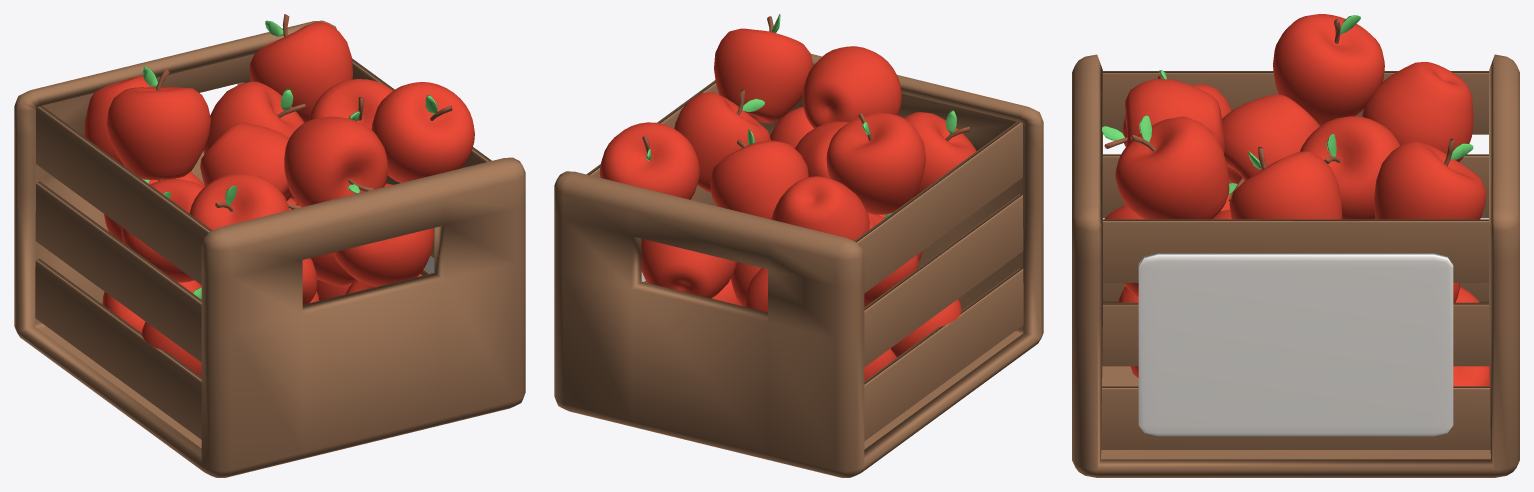
The model's file is CajaDeManzana.fbx.
The picture shows the model from 3 angles, left to right: view 1: azimuth 30°, elevation 25°; view 2: azimuth 150°, elevation 25°; view 3: azimuth 270°, elevation 25°; orthographic projection. The views are drawn at different scales.
Visible parts, largest first — view 1: Cube.004, Cube.005, Sphere.035, Sphere.034, Sphere.029, Sphere.033, Sphere.030, Sphere.023, Sphere.027, Sphere.031, Sphere.032, Sphere.025 (+5 smaller); view 2: Cube.004, Cube.005, Sphere.035, Sphere.034, Sphere.029, Sphere.033, Sphere.031, Sphere.032, Sphere.028, Sphere.018, Sphere.027, Sphere.030 (+5 smaller); view 3: Cube.006, Cube.005, Cube.004, Sphere.034, Sphere.035, Sphere.028, Sphere.033, Sphere.032, Sphere.031, Sphere.030, Sphere.029, Sphere (+2 smaller).
Boxes of the visible parts, box(x1,y1,x2,y2) form: Cube.004: box(14, 20, 525, 477); Cube.005: box(35, 58, 491, 439); Sphere.035: box(106, 87, 210, 179); Sphere.034: box(371, 82, 474, 182); Sphere.029: box(284, 116, 388, 207); Sphere.033: box(249, 21, 352, 122); Sphere.030: box(200, 122, 292, 201); Sphere.023: box(333, 183, 433, 286); Sphere.027: box(189, 173, 289, 230); Sphere.031: box(203, 81, 304, 154); Sphere.032: box(309, 79, 393, 129); Sphere.025: box(121, 178, 203, 282); Cube.004: box(554, 54, 1043, 477); Cube.005: box(586, 80, 1023, 441); Sphere.035: box(826, 112, 925, 214); Sphere.034: box(714, 28, 812, 123); Sphere.029: box(802, 46, 901, 128); Sphere.033: box(599, 122, 699, 199); Sphere.031: box(710, 140, 808, 219); Sphere.032: box(674, 92, 770, 193); Sphere.028: box(771, 176, 869, 240); Sphere.018: box(641, 238, 737, 298); Sphere.027: box(904, 112, 976, 195); Sphere.030: box(795, 121, 848, 178); Cube.006: box(1138, 253, 1453, 436); Cube.005: box(1101, 71, 1490, 449); Cube.004: box(1072, 54, 1519, 477); Sphere.034: box(1115, 116, 1229, 219); Sphere.035: box(1273, 14, 1384, 125); Sphere.028: box(1362, 62, 1473, 161); Sphere.033: box(1374, 141, 1486, 219); Sphere.032: box(1229, 151, 1342, 219); Sphere.031: box(1300, 116, 1399, 219); Sphere.030: box(1222, 94, 1319, 183); Sphere.029: box(1125, 78, 1224, 154); Sphere: box(1453, 366, 1489, 386).
Size of the model in its own units: 161 by 149 by 180.
